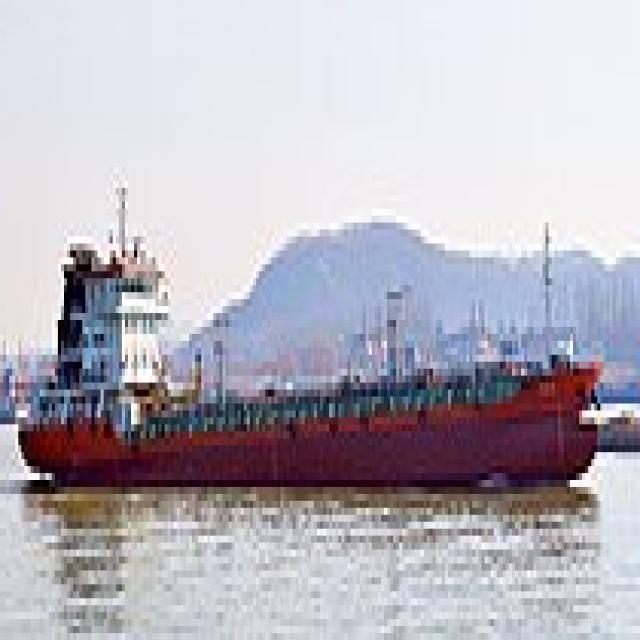Tanker: (18, 216, 613, 487)
